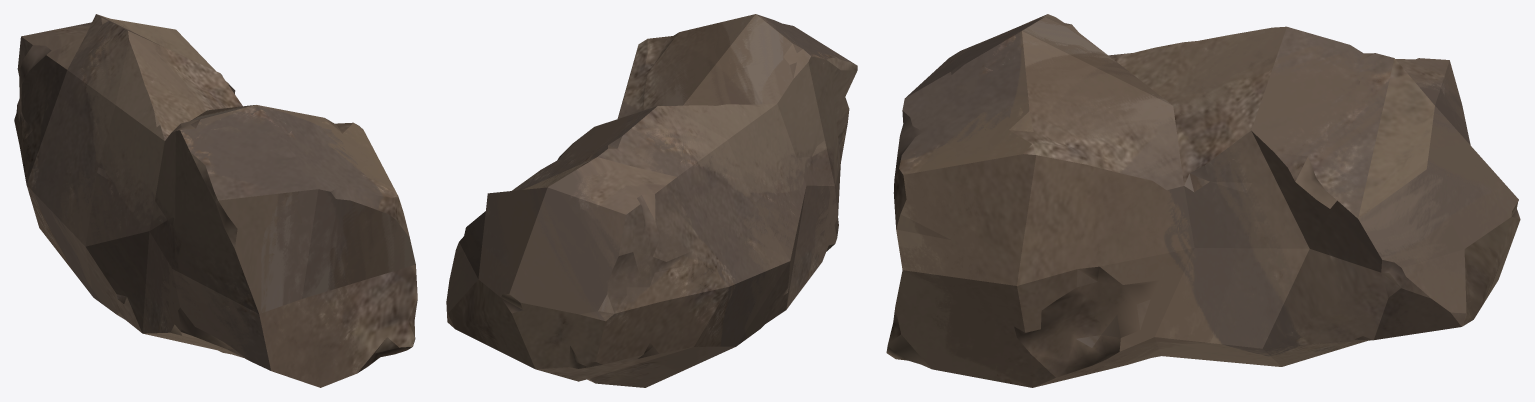
The model's file is P_ROCK 5.fbx.
The picture shows the model from 3 angles, left to right: view 1: azimuth 30°, elevation 25°; view 2: azimuth 150°, elevation 25°; view 3: azimuth 270°, elevation 25°; orthographic projection. The views are drawn at different scales.
Visible parts, largest first — view 1: Rock_05; view 2: Rock_05; view 3: Rock_05.
Boxes of the visible parts, x1,y1,x2,y2 form: Rock_05: (14, 14, 417, 387); Rock_05: (446, 14, 857, 387); Rock_05: (886, 14, 1520, 387).
Bounding box in the file's own units: 158 × 179 × 305.
